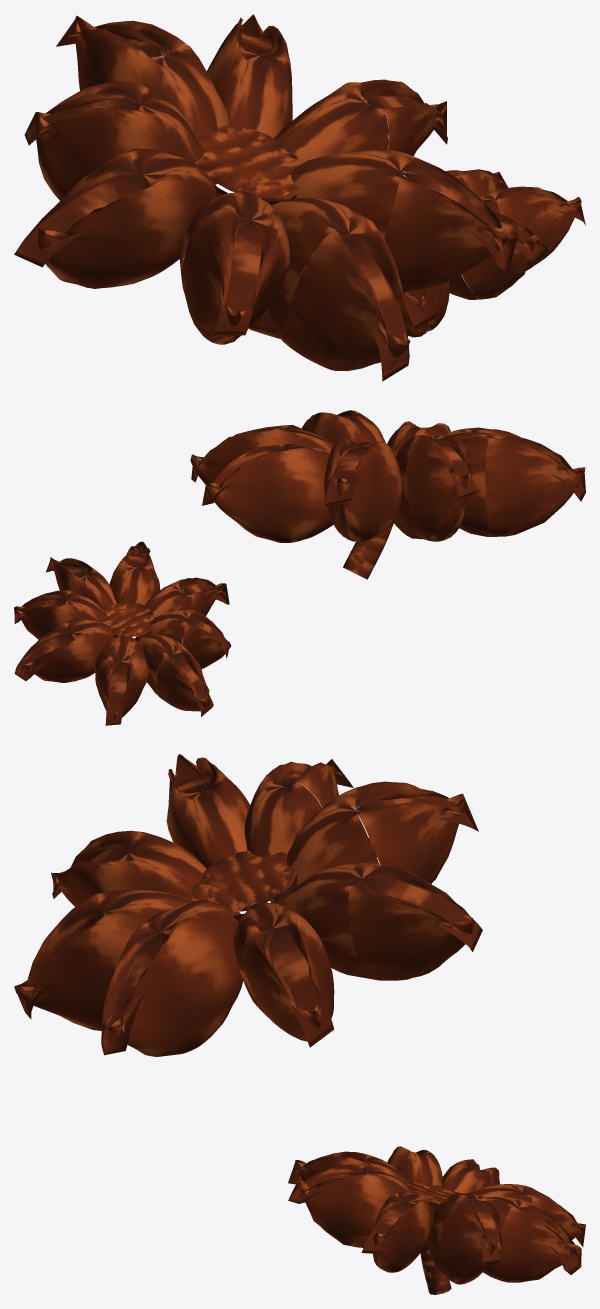
The model's file is star-anise.glb.
3 renders of one model, top to bottom at view 1: azimuth 30°, elevation 25°; view 2: azimuth 150°, elevation 25°; view 3: azimuth 270°, elevation 25°, orthographic. The views are drawn at different scales.
Visible parts, largest first — view 1: star-anise-carpels; view 2: star-anise-carpels; view 3: star-anise-carpels.
Part boxes in pixels (x1=…): star-anise-carpels: x1=14, y1=14, x2=585, y2=381; star-anise-carpels: x1=14, y1=410, x2=585, y2=725; star-anise-carpels: x1=14, y1=754, x2=585, y2=1294.
Size of the model in its own units: 0.0543 by 0.0313 by 0.0444.
Materials: 2 (2 with a texture image).
